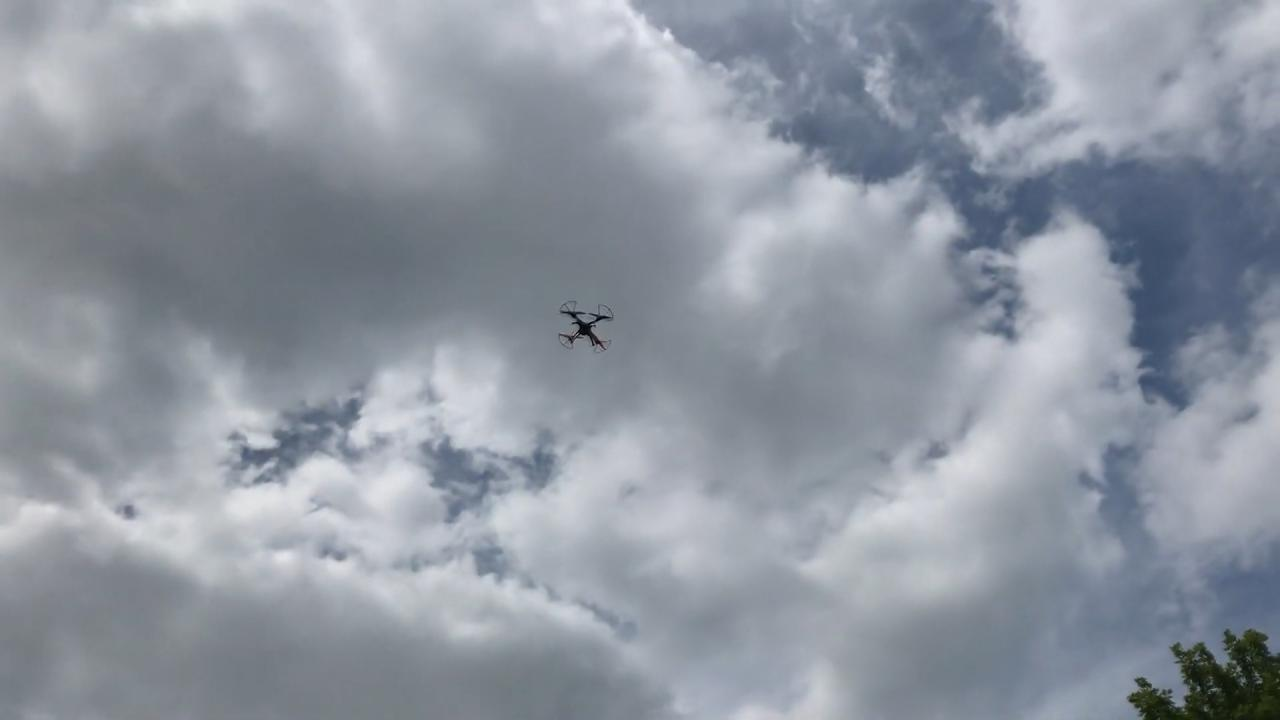Drone: (550, 290, 621, 360)
